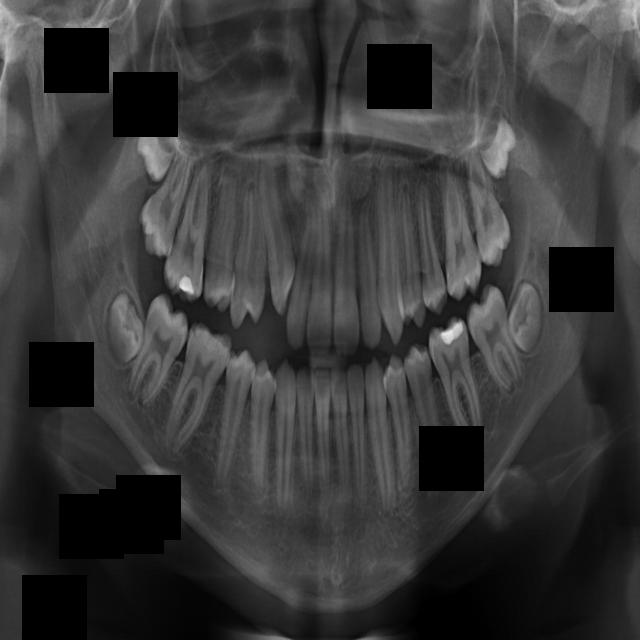3M ESPE Implant: (123, 105, 190, 185)
AGS Medikal Implant: (458, 280, 529, 400)
AMerOss Implant: (474, 435, 475, 441)
Amalgam filling: (129, 143, 197, 261)
Anthogyr Implant: (403, 341, 447, 478)
Bicon Implant: (381, 353, 419, 493)
BioHorizons Implant: (362, 355, 396, 516)
BioLife Implant: (347, 362, 371, 503)
Biomet 3i Implant: (330, 367, 353, 491)
Blue Sky Bio Implant: (313, 367, 332, 491)
Camlog Implant: (296, 366, 316, 503)
Caries: (351, 195, 385, 351)
Composite filling: (274, 358, 296, 517)
Cowellmedi Implant: (242, 359, 278, 492)
Crown: (199, 345, 260, 490)
DENTSPLY Implant: (162, 159, 211, 304)
Dentatus Implant: (158, 319, 237, 463)
Dentis Implant: (122, 289, 197, 412)
Dentium Implant: (106, 292, 144, 365)
Euroteknika Implant: (201, 160, 244, 313)
Filling: (227, 171, 278, 332)
Frontier Implant: (255, 144, 301, 317)
Hiossen Implant: (369, 150, 407, 348)
Implant: (305, 189, 338, 357)
Implant Direct: (283, 187, 323, 352)
Keystone Dental Implant: (333, 190, 360, 359)
MIS Implant: (398, 180, 427, 328)
Mandible: (414, 177, 449, 316)
Maxilla: (440, 155, 484, 302)
Megagen Implant: (454, 141, 518, 271)
Neodent Implant: (479, 109, 520, 180)
Neoss Implant: (509, 279, 541, 354)
